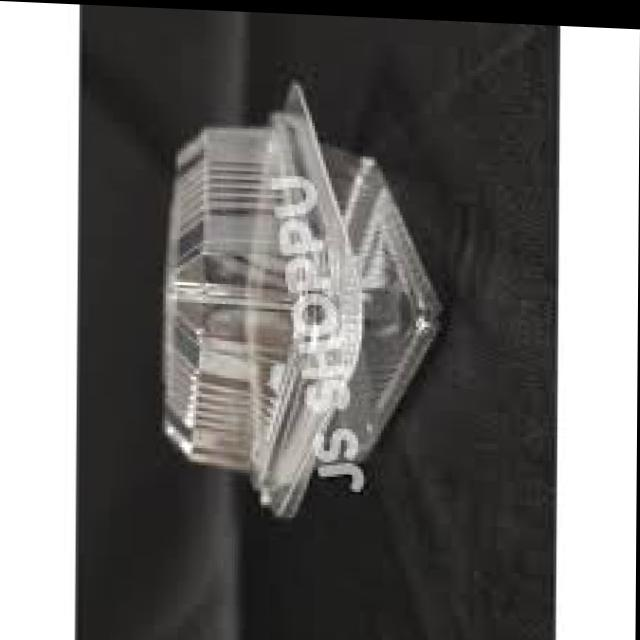disposable: (155, 87, 454, 491)
